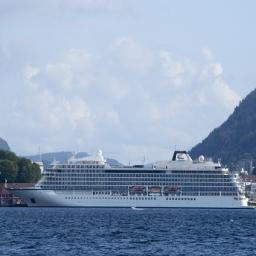cruises: (6, 146, 256, 217)
